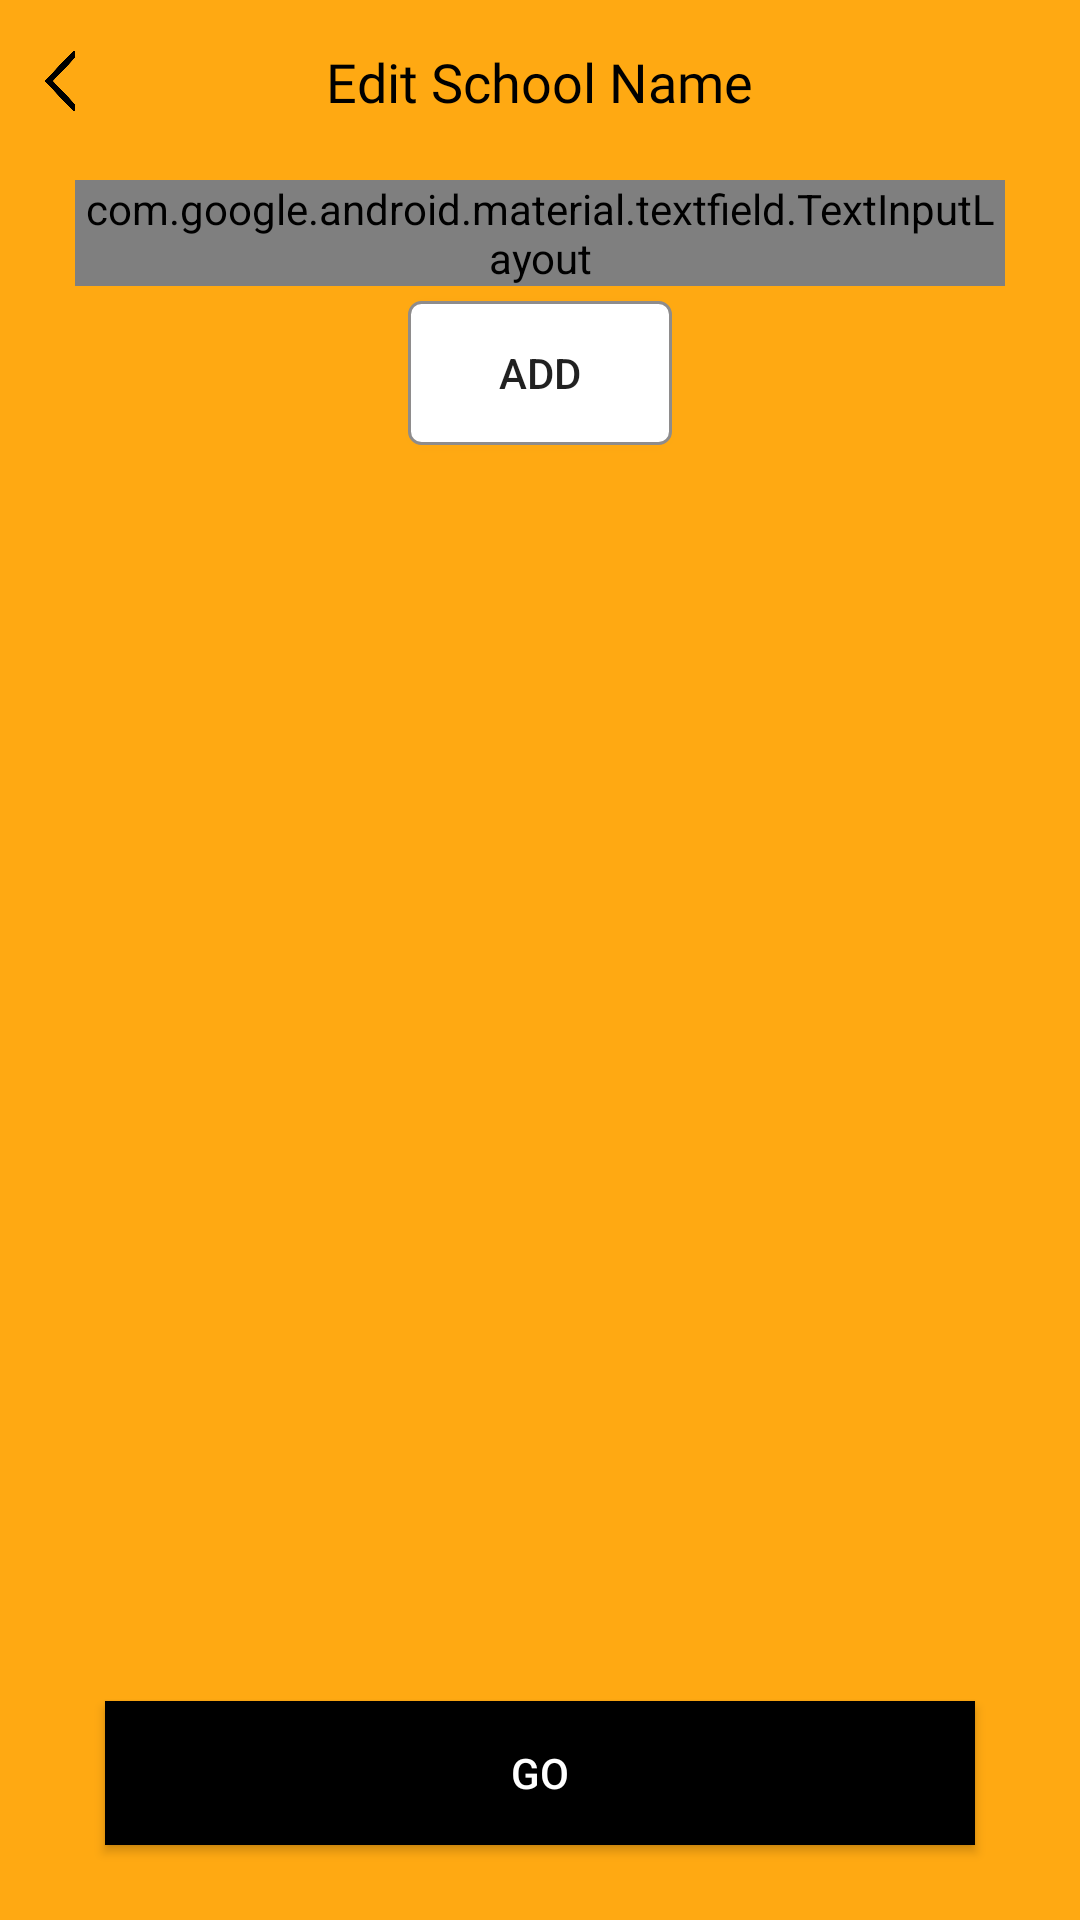

Where icons sit on this 1080 x 1920 app screen, as (x1, y1, x2, y2):
left: (45, 51, 75, 111)
